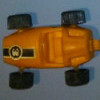naranja: (2, 11, 97, 86)
